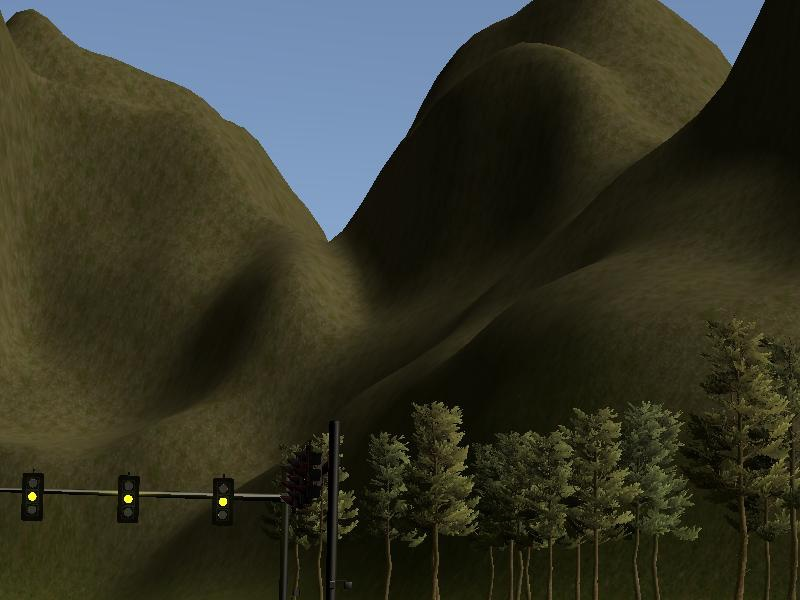Yellow: (211, 476, 236, 527), (116, 474, 141, 525), (20, 471, 45, 522)
